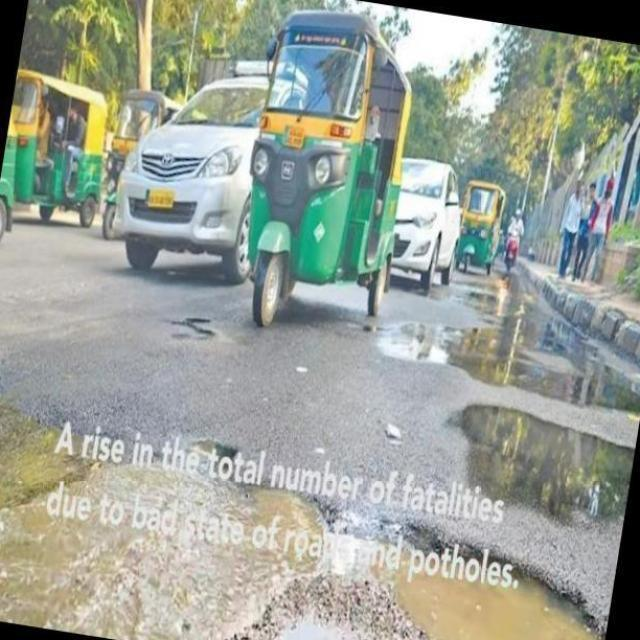Pathole: (0, 467, 601, 640)
